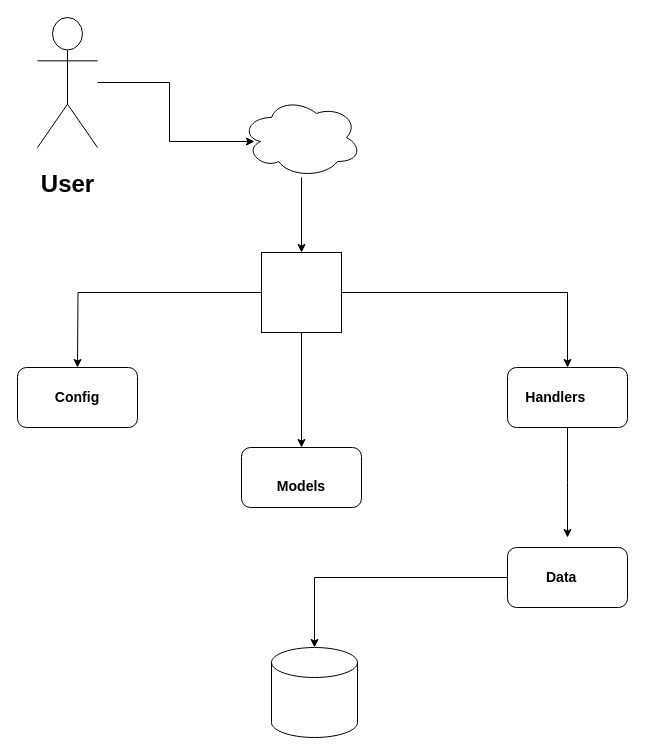
Some shapes in this 645 by 755 pixel diagram are drawn without their labels. Each missing label, with the centre of its shape:
"BOT" goes at [301,292].
"MySQL" goes at [314,692].
"Telegram API Aiogram" goes at [301,137].
